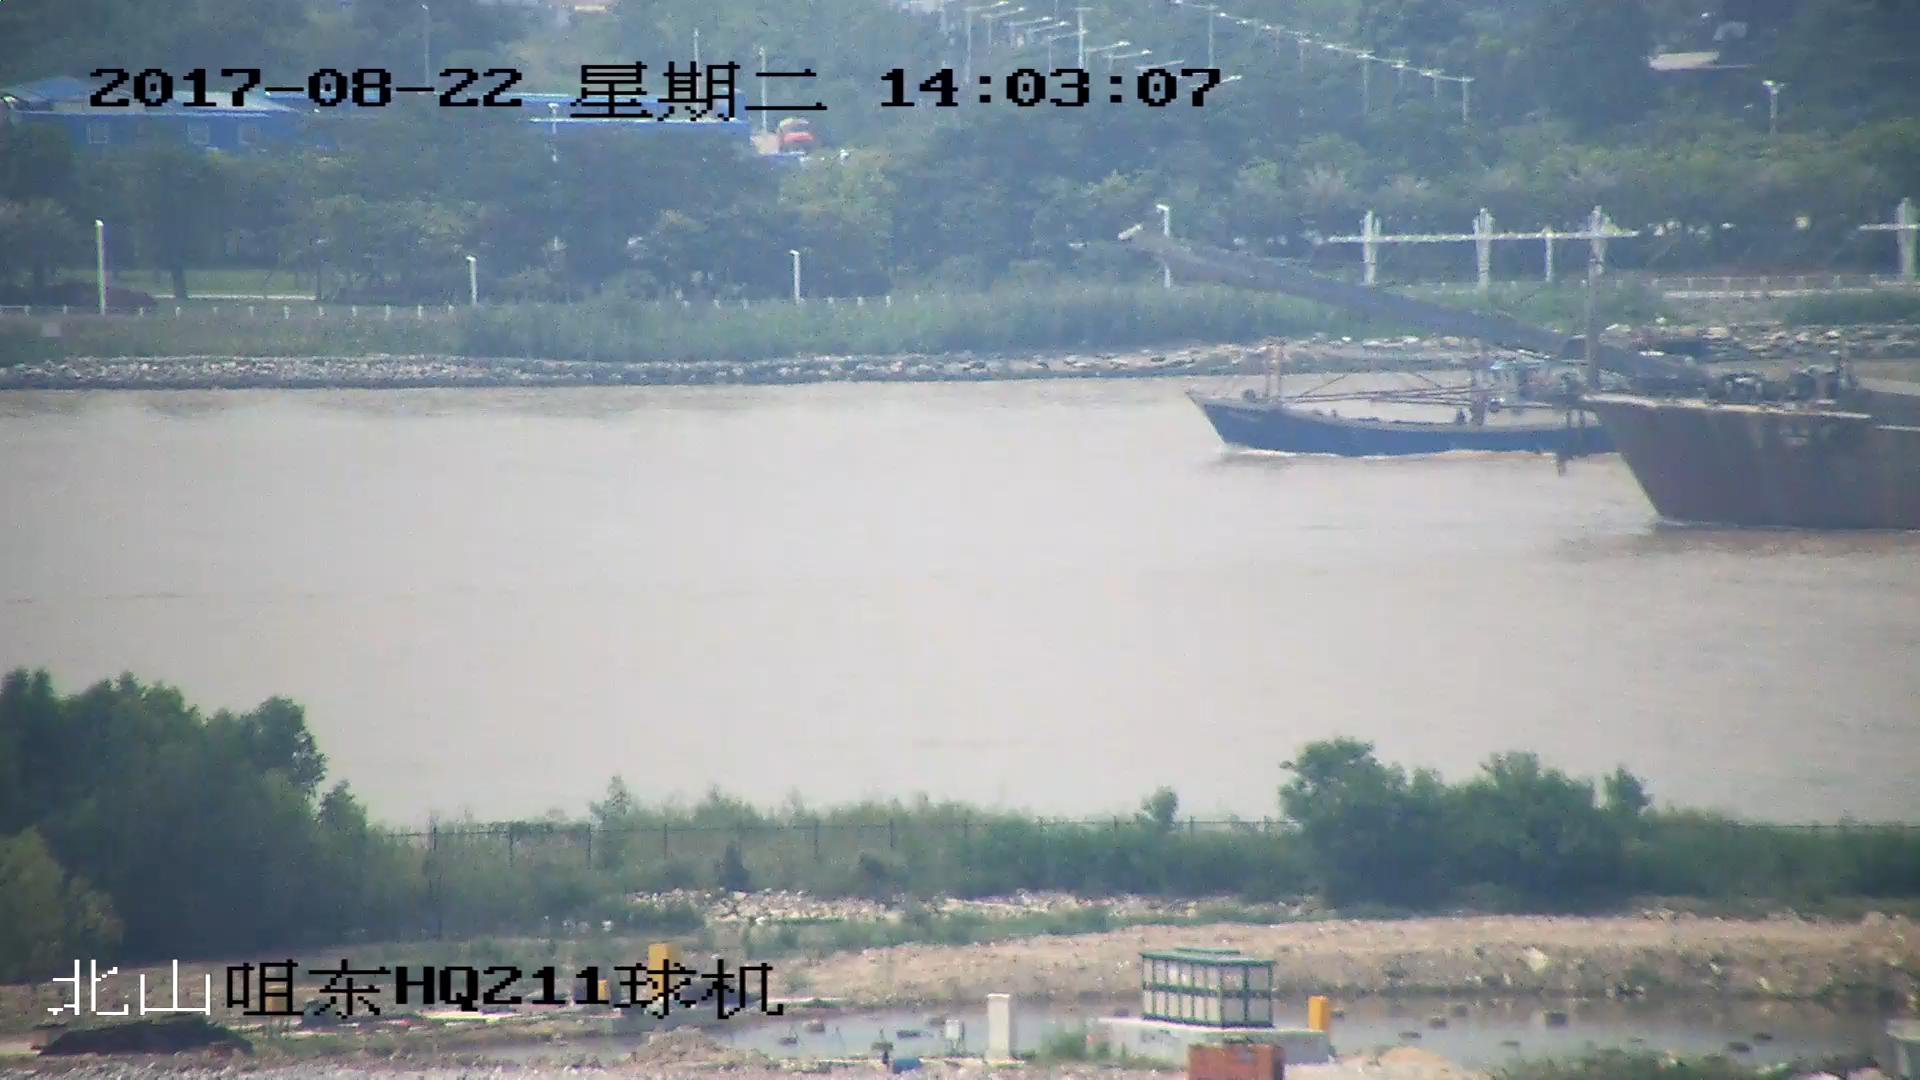bulk cargo carrier: (1136, 235, 1920, 529)
fishing boat: (1189, 341, 1608, 465)
